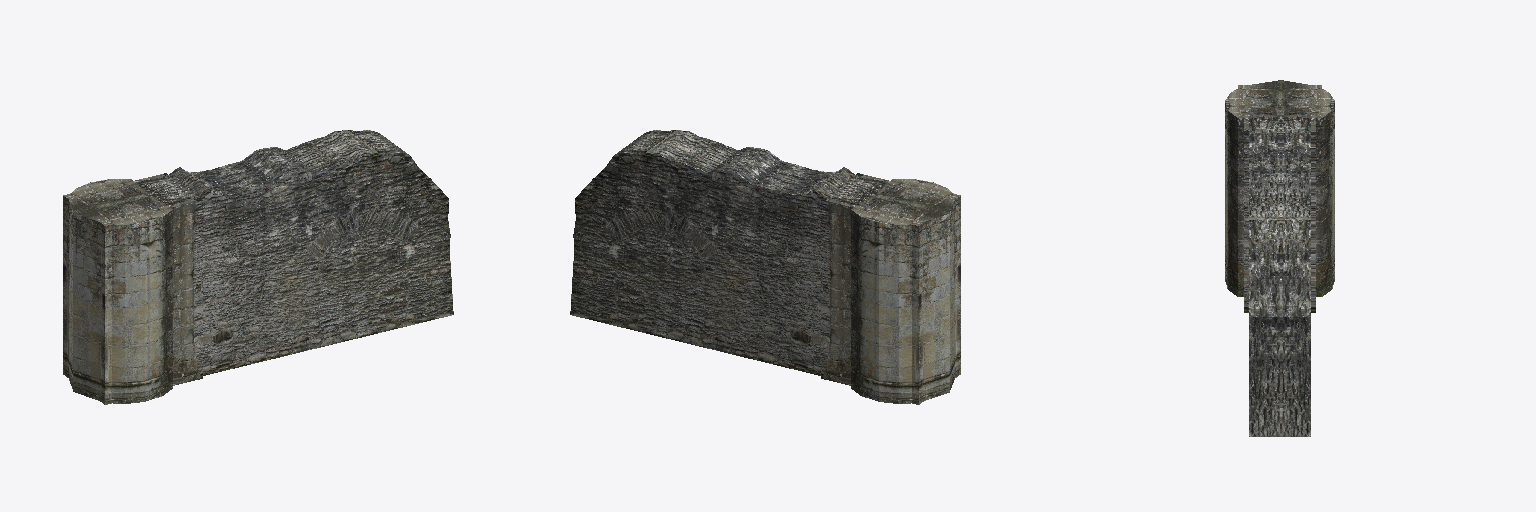
3 views of the same model, side by side, from view 1: azimuth 30°, elevation 25°; view 2: azimuth 150°, elevation 25°; view 3: azimuth 270°, elevation 25° (orthographic).
Visible parts, largest first — view 1: def_surf_mat; view 2: def_surf_mat; view 3: def_surf_mat.
Part boxes in pixels (bbox=[...]): def_surf_mat: bbox=[63, 130, 453, 404]; def_surf_mat: bbox=[570, 130, 960, 404]; def_surf_mat: bbox=[1225, 80, 1334, 436].
Size of the model in its own units: 174 by 83.96 by 45.6.
1 materials, 1 textured.